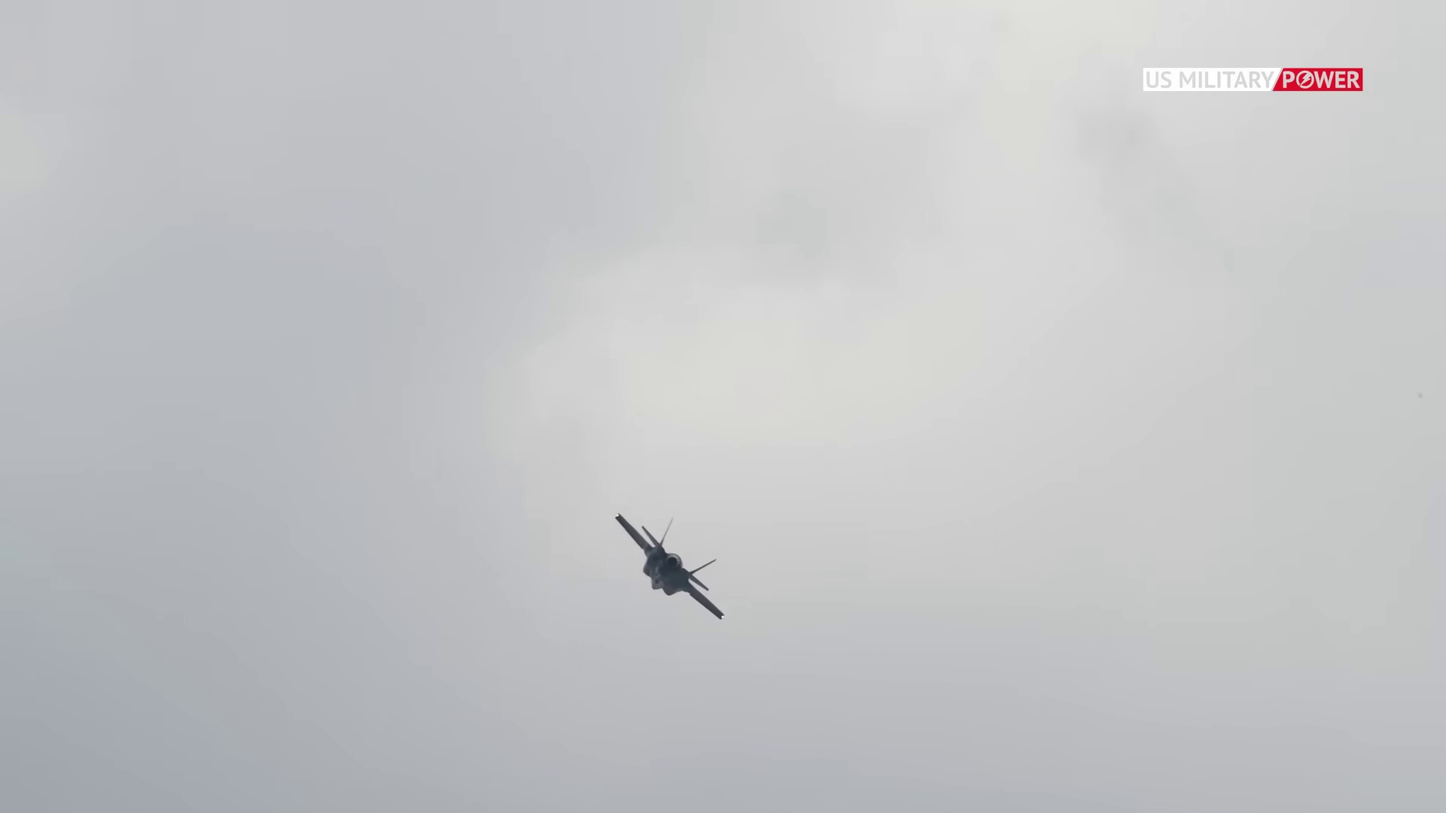F35: (615, 510, 726, 618)
